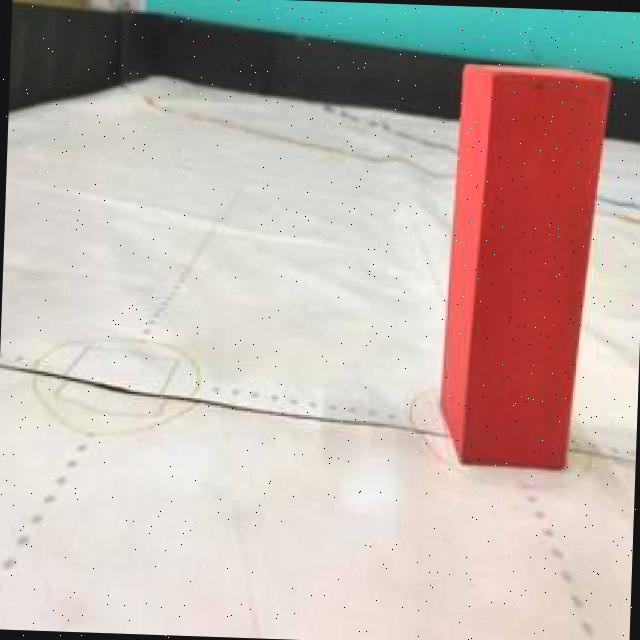redbox: (433, 59, 612, 473)
